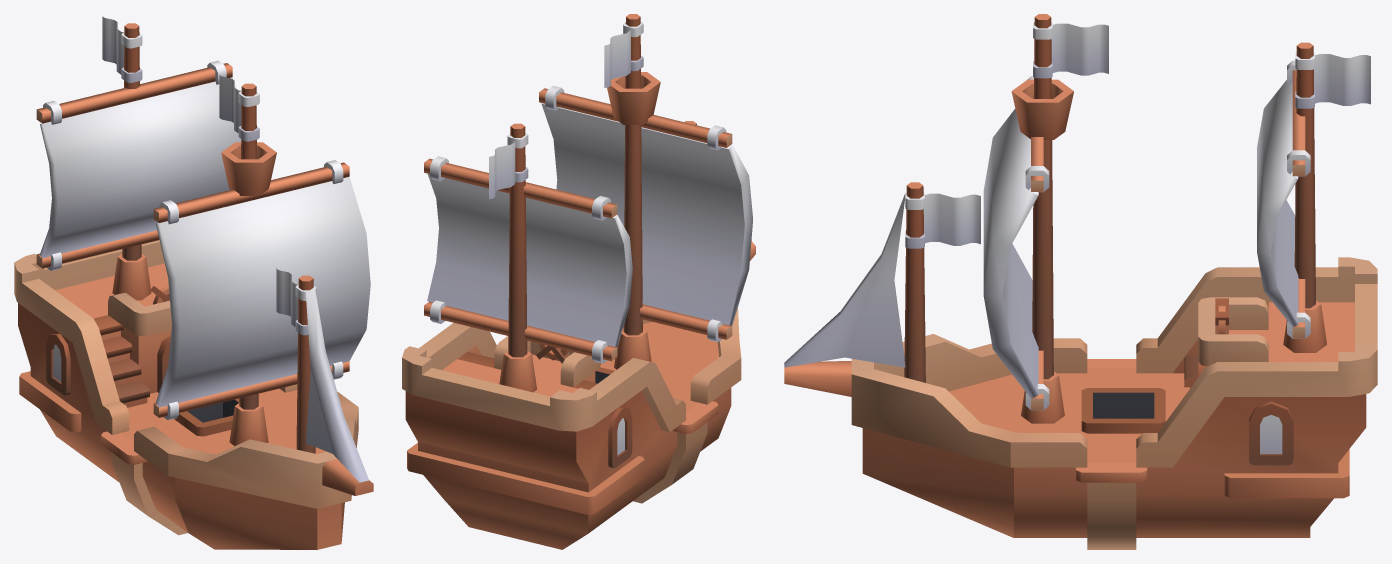
Rendered from ship-medium.glb.
3 views of the same model, side by side, from view 1: azimuth 30°, elevation 25°; view 2: azimuth 150°, elevation 25°; view 3: azimuth 270°, elevation 25° (orthographic). The views are drawn at different scales.
Visible parts, largest first — view 1: ship-medium; view 2: ship-medium; view 3: ship-medium.
Part boxes in pixels (x1,y1,x2,y2): ship-medium: (14,16,373,549); ship-medium: (402,14,755,549); ship-medium: (784,14,1377,549).
Bounding box in the file's own units: 4.8 × 9.96 × 10.6.
Materials: 1 (1 with a texture image).
